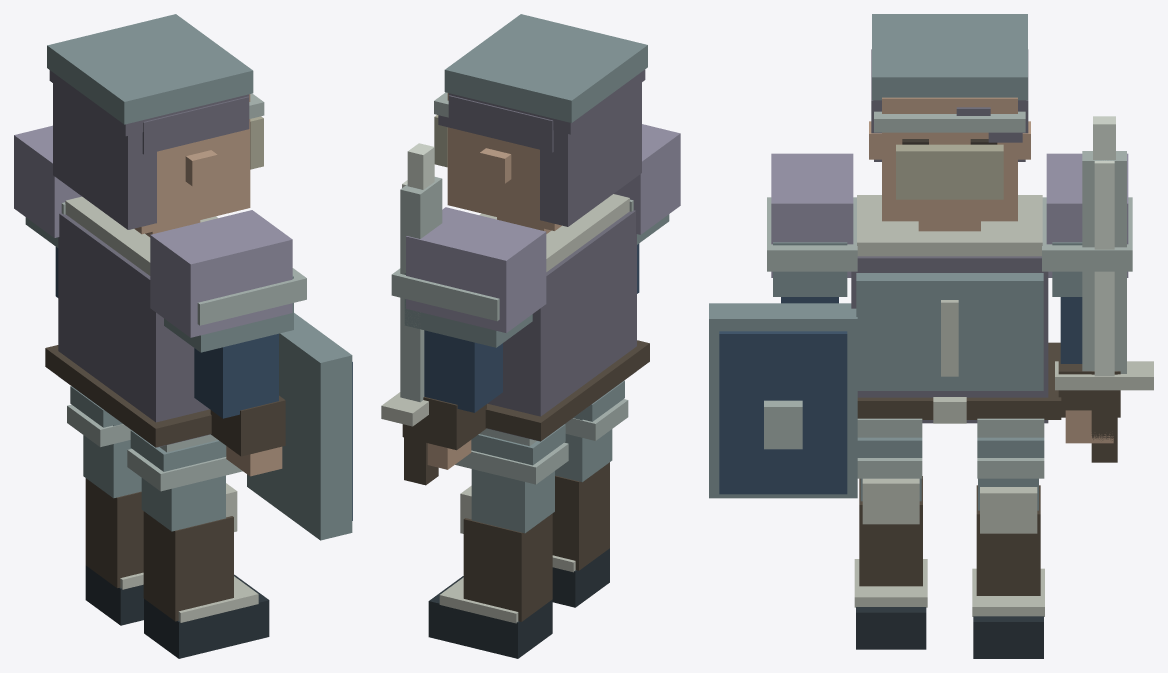
The model's file is oathless-duelist.glb.
3 renders of one model, left to right at view 1: azimuth 30°, elevation 25°; view 2: azimuth 150°, elevation 25°; view 3: azimuth 270°, elevation 25°, orthographic. The views are drawn at different scales.
Visible parts, largest first — view 1: Boots, Torso, ShoulderPlates, Shield, Helmet, Hair, Head, Tassets, Legs, Sleeves, Belt, Bracers (+7 smaller); view 2: Boots, Torso, ShoulderPlates, Helmet, Hair, Head, Tassets, Legs, Sleeves, SwordBlade, Belt, Bracers (+10 smaller); view 3: Breastplate, ShieldRim, Helmet, Boots, ShoulderPlates, Shield, Tassets, Head, Collar, Mask, Pauldrons, Torso (+19 smaller).
Part boxes in pixels (bbox=[...]): Boots: bbox=[85, 478, 269, 658]; Torso: bbox=[58, 213, 210, 447]; ShoulderPlates: bbox=[14, 125, 292, 337]; Shield: bbox=[247, 313, 352, 540]; Helmet: bbox=[47, 14, 264, 124]; Hair: bbox=[49, 70, 249, 229]; Head: bbox=[134, 94, 250, 234]; Tassets: bbox=[67, 386, 242, 491]; Legs: bbox=[83, 423, 225, 531]; Sleeves: bbox=[55, 247, 278, 418]; Belt: bbox=[45, 345, 211, 447]; Bracers: bbox=[210, 395, 285, 456]; Boots: bbox=[428, 462, 609, 658]; Torso: bbox=[487, 210, 636, 441]; ShoulderPlates: bbox=[406, 124, 680, 333]; Helmet: bbox=[434, 14, 647, 122]; Hair: bbox=[438, 69, 645, 226]; Head: bbox=[447, 93, 561, 230]; Tassets: bbox=[455, 380, 628, 484]; Legs: bbox=[471, 417, 612, 533]; Sleeves: bbox=[424, 243, 639, 412]; SwordBlade: bbox=[400, 177, 442, 402]; Belt: bbox=[485, 340, 649, 441]; Bracers: bbox=[402, 397, 486, 450]; Breastplate: bbox=[856, 273, 1043, 390]; ShieldRim: bbox=[719, 331, 847, 494]; Helmet: bbox=[872, 14, 1027, 132]; Boots: bbox=[856, 476, 1043, 658]; ShoulderPlates: bbox=[771, 153, 1128, 277]; Shield: bbox=[709, 303, 857, 498]; Tassets: bbox=[857, 418, 1044, 478]; Head: bbox=[882, 97, 1017, 221]; Collar: bbox=[857, 195, 1042, 256]; Mask: bbox=[896, 144, 1003, 199]; Pauldrons: bbox=[767, 197, 1132, 271]; Torso: bbox=[851, 256, 1048, 423].
Size of the model in its own units: 2.6 by 8.57 by 5.98.
